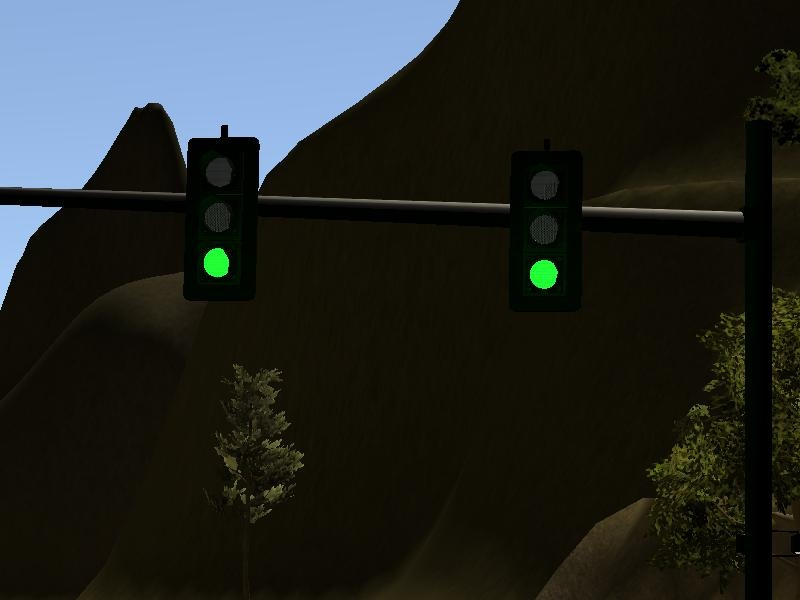green: (175, 124, 268, 309), (507, 143, 592, 312)
